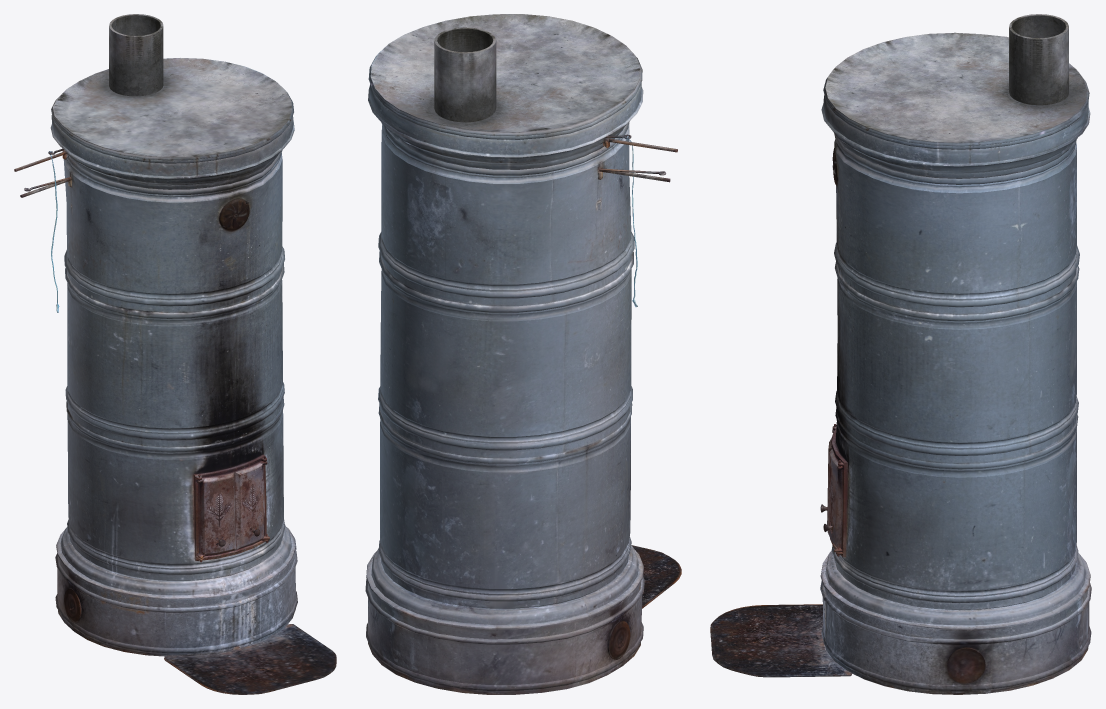
The model's file is scandinavian_masonry_heater_lod0.glb.
3 renders of one model, left to right at view 1: azimuth 30°, elevation 25°; view 2: azimuth 150°, elevation 25°; view 3: azimuth 270°, elevation 25°, orthographic. The views are drawn at different scales.
Parts seen in each view (by area): view 1: scandinavian_masonry_heater; view 2: scandinavian_masonry_heater; view 3: scandinavian_masonry_heater.
Part boxes in pixels (box(x1,y1,x2,y2)): scandinavian_masonry_heater: box(14, 14, 336, 694); scandinavian_masonry_heater: box(365, 14, 681, 694); scandinavian_masonry_heater: box(710, 14, 1091, 694).
Bounding box in the file's own units: 1.17 × 2.36 × 1.34.
Materials: 1 (1 with a texture image).
